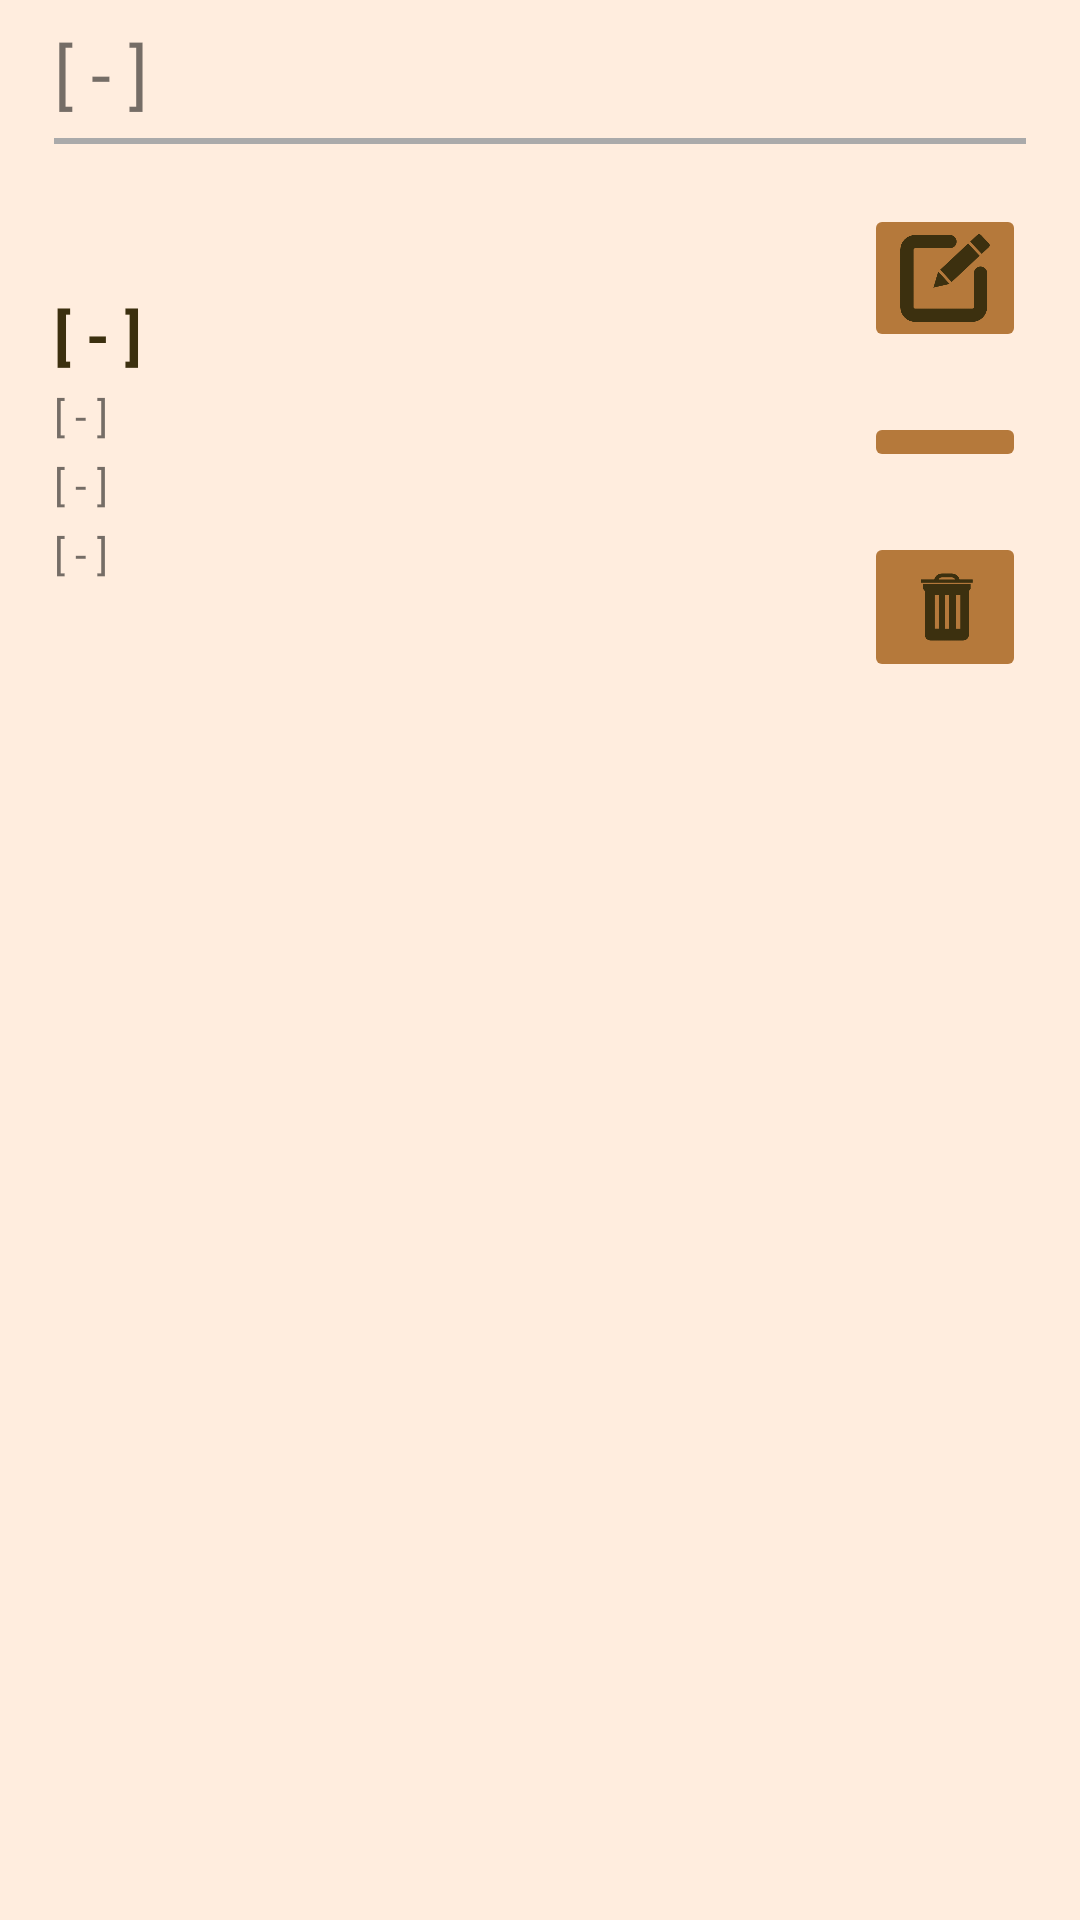

Named icons in this screenshot (1080 × 1920) and their centers, [x,y]:
delete: [945,607]
edit: [945,278]
